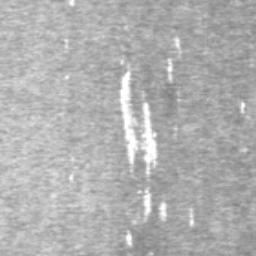White rust: (119, 69, 158, 175), (136, 187, 153, 225), (158, 200, 168, 222), (125, 229, 133, 248), (167, 58, 173, 83), (175, 37, 181, 58), (188, 206, 194, 226), (240, 99, 246, 114), (63, 37, 69, 50), (69, 173, 75, 184)
